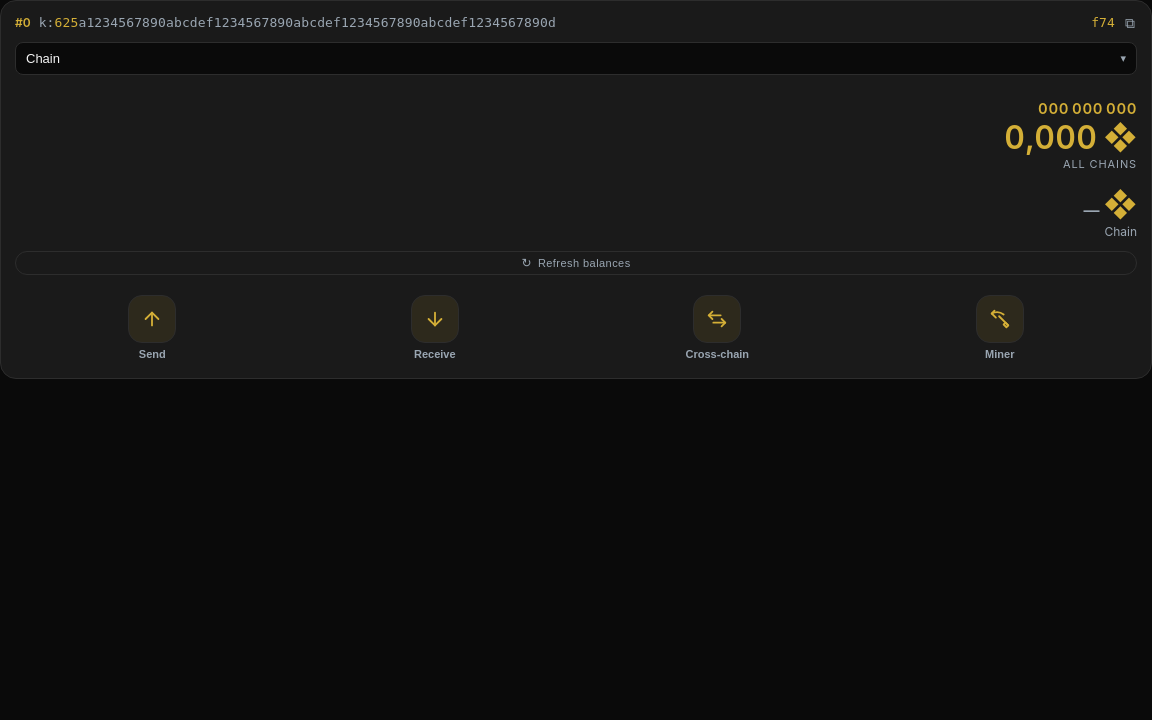
Scenario: StoaTab › opens the Cross-chain view when Cross-chain is clicked
Check: the element with test id "stoa-balance-hero" is shown, box [1004, 99, 1137, 171]
Click the button "Cross-chain" at (717, 328), box [580, 291, 854, 364]
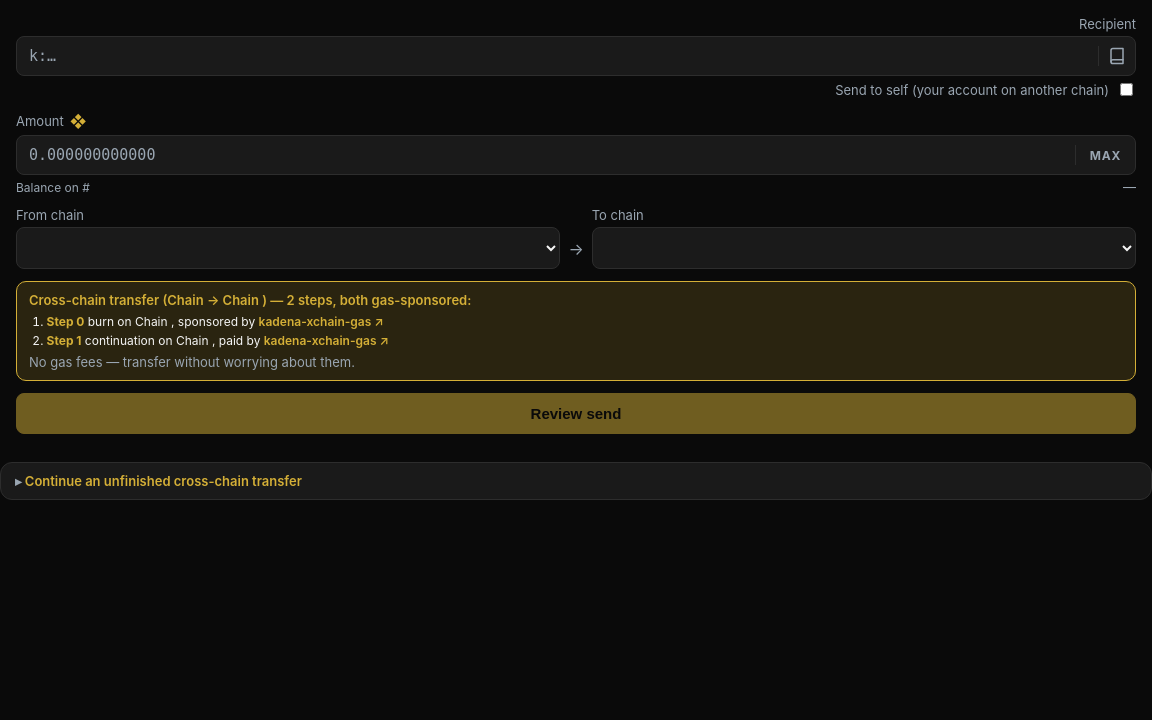
Check: the element with test id "stoa-subview" is shown
